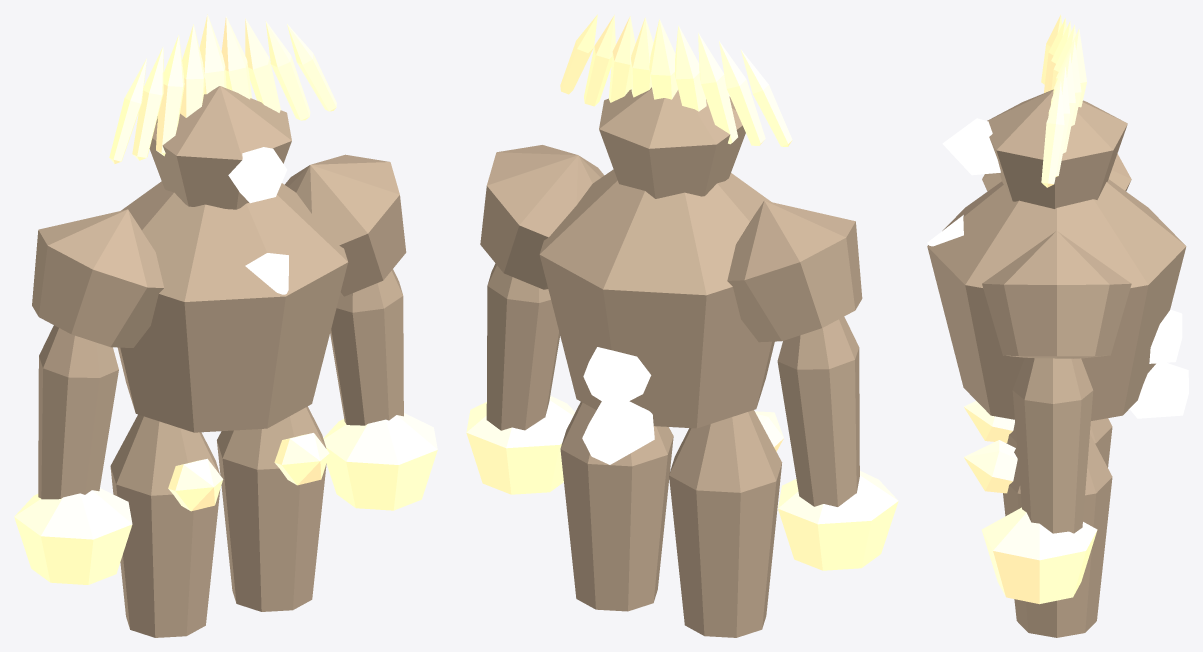
File: deep-fracture-deep-colossus-visual-earth.glb
The picture shows the model from 3 angles, left to right: view 1: azimuth 30°, elevation 25°; view 2: azimuth 150°, elevation 25°; view 3: azimuth 270°, elevation 25°; orthographic projection. The views are drawn at different scales.
Visible parts, largest first — view 1: citadel-torso, leg--1, leg-1, shoulder--1, arm--1, crown, shoulder-1, arm-1, fist--1, fist-1, face-core, knee--1 (+11 smaller); view 2: citadel-torso, leg--1, leg-1, shoulder--1, arm--1, crown, shoulder-1, arm-1, fist--1, fist-1, death-anchor, resistance-core (+9 smaller); view 3: citadel-torso, shoulder-1, arm-1, crown, fist-1, leg-1, death-anchor, face-core, knee-1, crown-spire-8, resistance-core, knee--1 (+9 smaller).
Part boxes in pixels (<box>): citadel-torso: <box>118,181,348,432</box>; leg--1: <box>110,414,220,637</box>; leg-1: <box>217,406,326,611</box>; shoulder--1: <box>32,209,163,347</box>; arm--1: <box>38,325,118,499</box>; crown: <box>149,86,291,209</box>; shoulder-1: <box>284,154,406,296</box>; arm-1: <box>330,269,403,425</box>; fist--1: <box>14,488,132,584</box>; fist-1: <box>323,413,437,510</box>; face-core: <box>228,147,287,203</box>; knee--1: <box>168,458,223,511</box>; citadel-torso: <box>539,169,774,428</box>; leg--1: <box>669,410,782,637</box>; leg-1: <box>560,402,673,611</box>; shoulder--1: <box>727,200,862,342</box>; arm--1: <box>777,317,859,506</box>; crown: <box>599,87,745,198</box>; shoulder-1: <box>480,145,604,289</box>; arm-1: <box>486,263,560,430</box>; fist--1: <box>778,471,898,570</box>; fist-1: <box>466,395,575,494</box>; death-anchor: <box>582,401,654,464</box>; resistance-core: <box>583,347,651,405</box>; citadel-torso: <box>927,179,1186,420</box>; shoulder-1: <box>982,231,1131,358</box>; arm-1: <box>1012,357,1093,533</box>; crown: <box>987,89,1127,208</box>; fist-1: <box>981,507,1097,604</box>; leg-1: <box>1003,434,1112,637</box>; death-anchor: <box>1129,362,1188,418</box>; face-core: <box>942,118,1000,175</box>; knee-1: <box>964,440,1017,493</box>; crown-spire-8: <box>1041,80,1064,187</box>; resistance-core: <box>1149,309,1182,363</box>; knee--1: <box>964,401,1014,442</box>.
Size of the model in its own units: 4.74 by 6.65 by 2.73.
